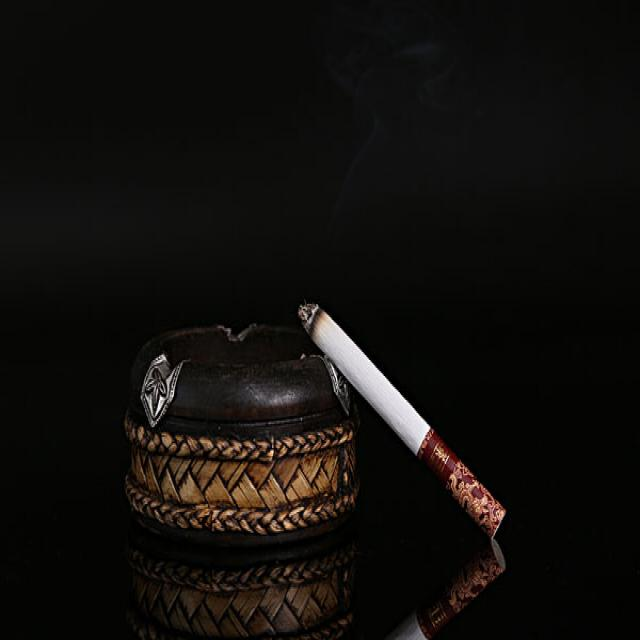smoking: (297, 297, 504, 542), (382, 539, 506, 640)
